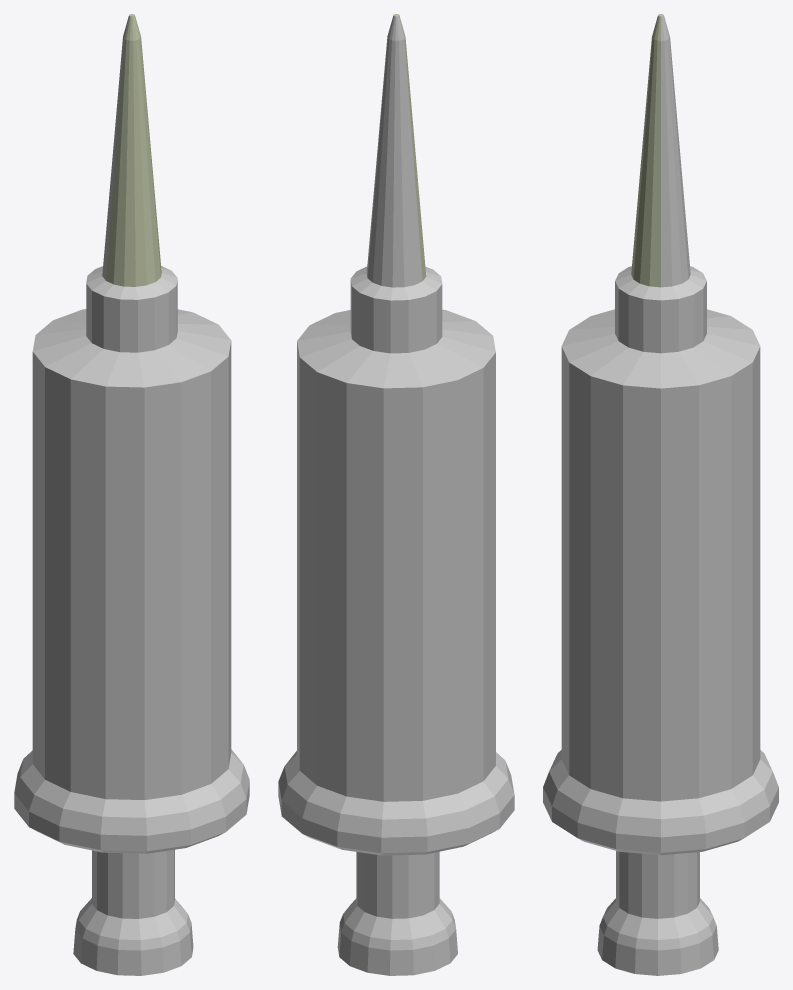
File: Syringe.obj
The picture shows the model from 3 angles, left to right: view 1: azimuth 30°, elevation 25°; view 2: azimuth 150°, elevation 25°; view 3: azimuth 270°, elevation 25°; orthographic projection.
Parts seen in each view (by area): view 1: Syringe_Cylinder; view 2: Syringe_Cylinder; view 3: Syringe_Cylinder.
Part boxes in pixels (x1,y1,x2,y2): Syringe_Cylinder: (14, 14, 249, 975); Syringe_Cylinder: (278, 14, 514, 975); Syringe_Cylinder: (543, 14, 778, 975).
Size of the model in its own units: 1.32 by 5.73 by 1.31.
